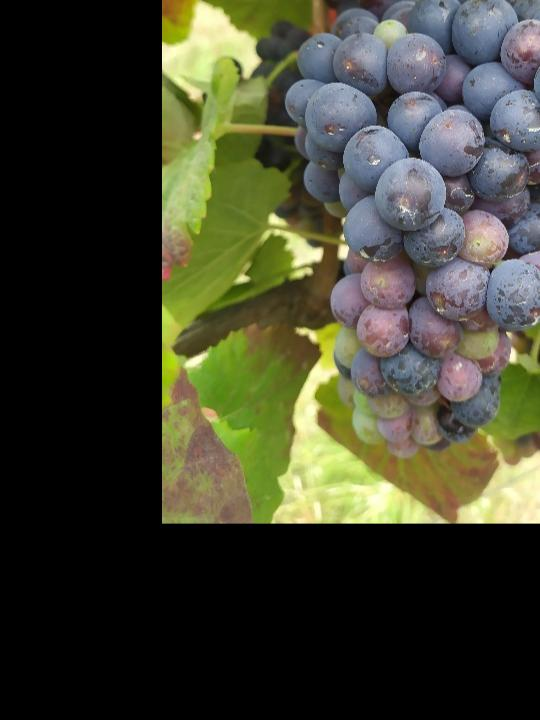grape: (283, 0, 540, 460)
